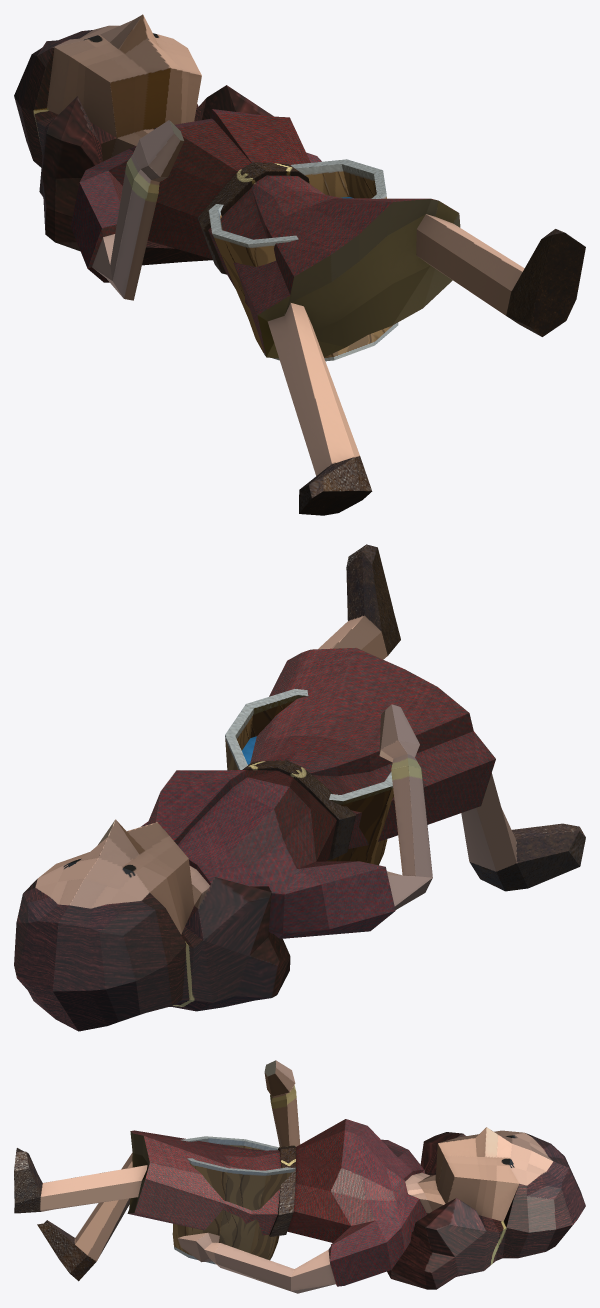
The model's file is Walk_Aldeana_21.obj.
3 views of the same model, one above another, from view 1: azimuth 30°, elevation 25°; view 2: azimuth 150°, elevation 25°; view 3: azimuth 270°, elevation 25° (orthographic). The views are drawn at different scales.
Visible parts, largest first — view 1: Aldeana.001; view 2: Aldeana.001; view 3: Aldeana.001.
Boxes of the visible parts, x1,y1,x2,y2 form: Aldeana.001: [14, 14, 585, 515]; Aldeana.001: [14, 544, 585, 1031]; Aldeana.001: [14, 1060, 585, 1293].
Size of the model in its own units: 0.9597 by 0.9617 by 2.4.
